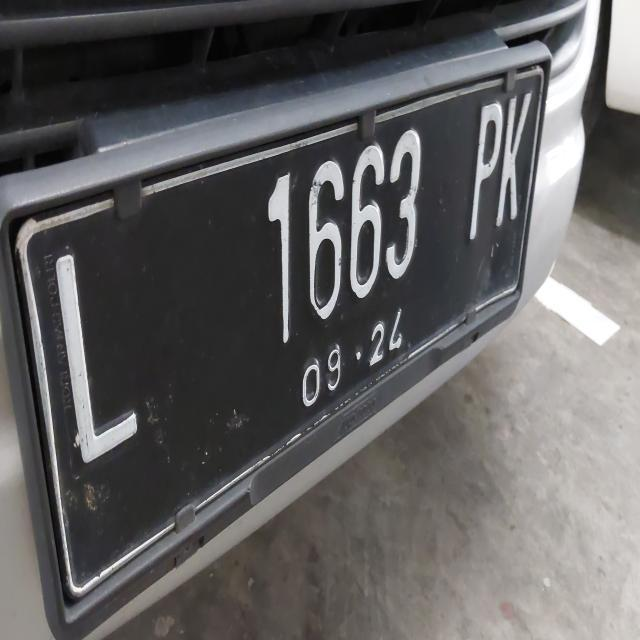1: (250, 164, 296, 372)
3: (384, 124, 430, 300)
6: (298, 152, 350, 342), (346, 138, 388, 308)
K: (496, 85, 534, 236)
L: (38, 238, 148, 456)
P: (459, 98, 504, 249)
